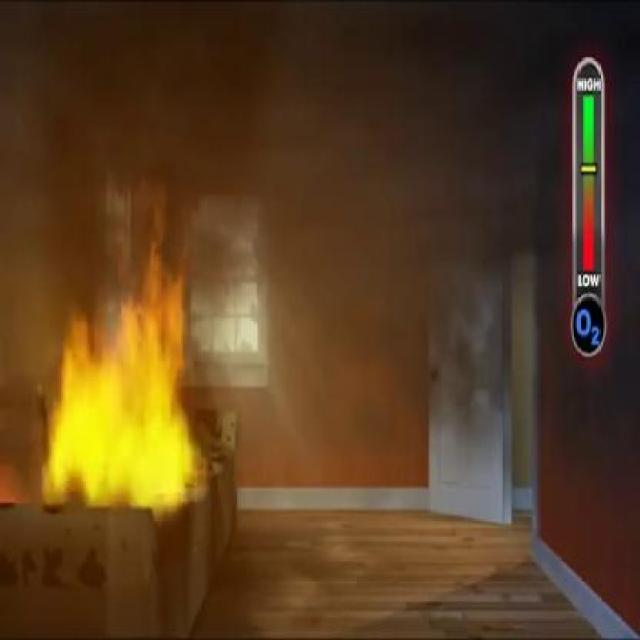fire: (72, 264, 185, 516)
smoke: (1, 8, 347, 256), (369, 57, 528, 343)
